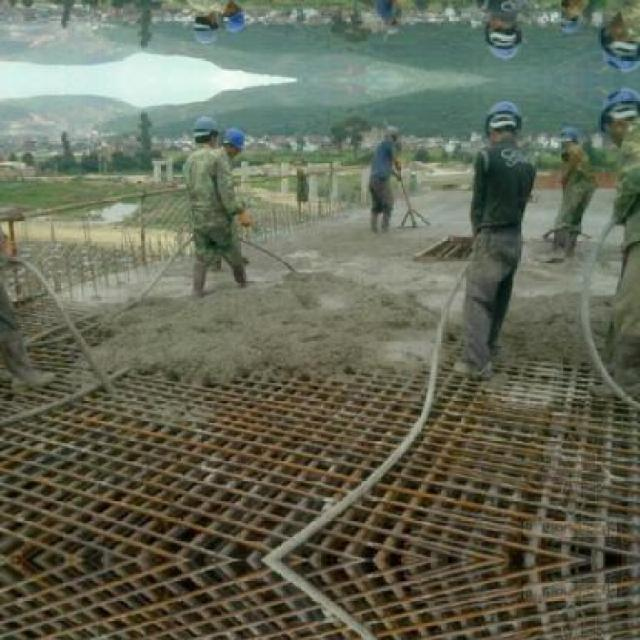helmet: (592, 86, 640, 134), (482, 97, 529, 135), (224, 120, 250, 152), (554, 120, 586, 143), (189, 111, 217, 135)
